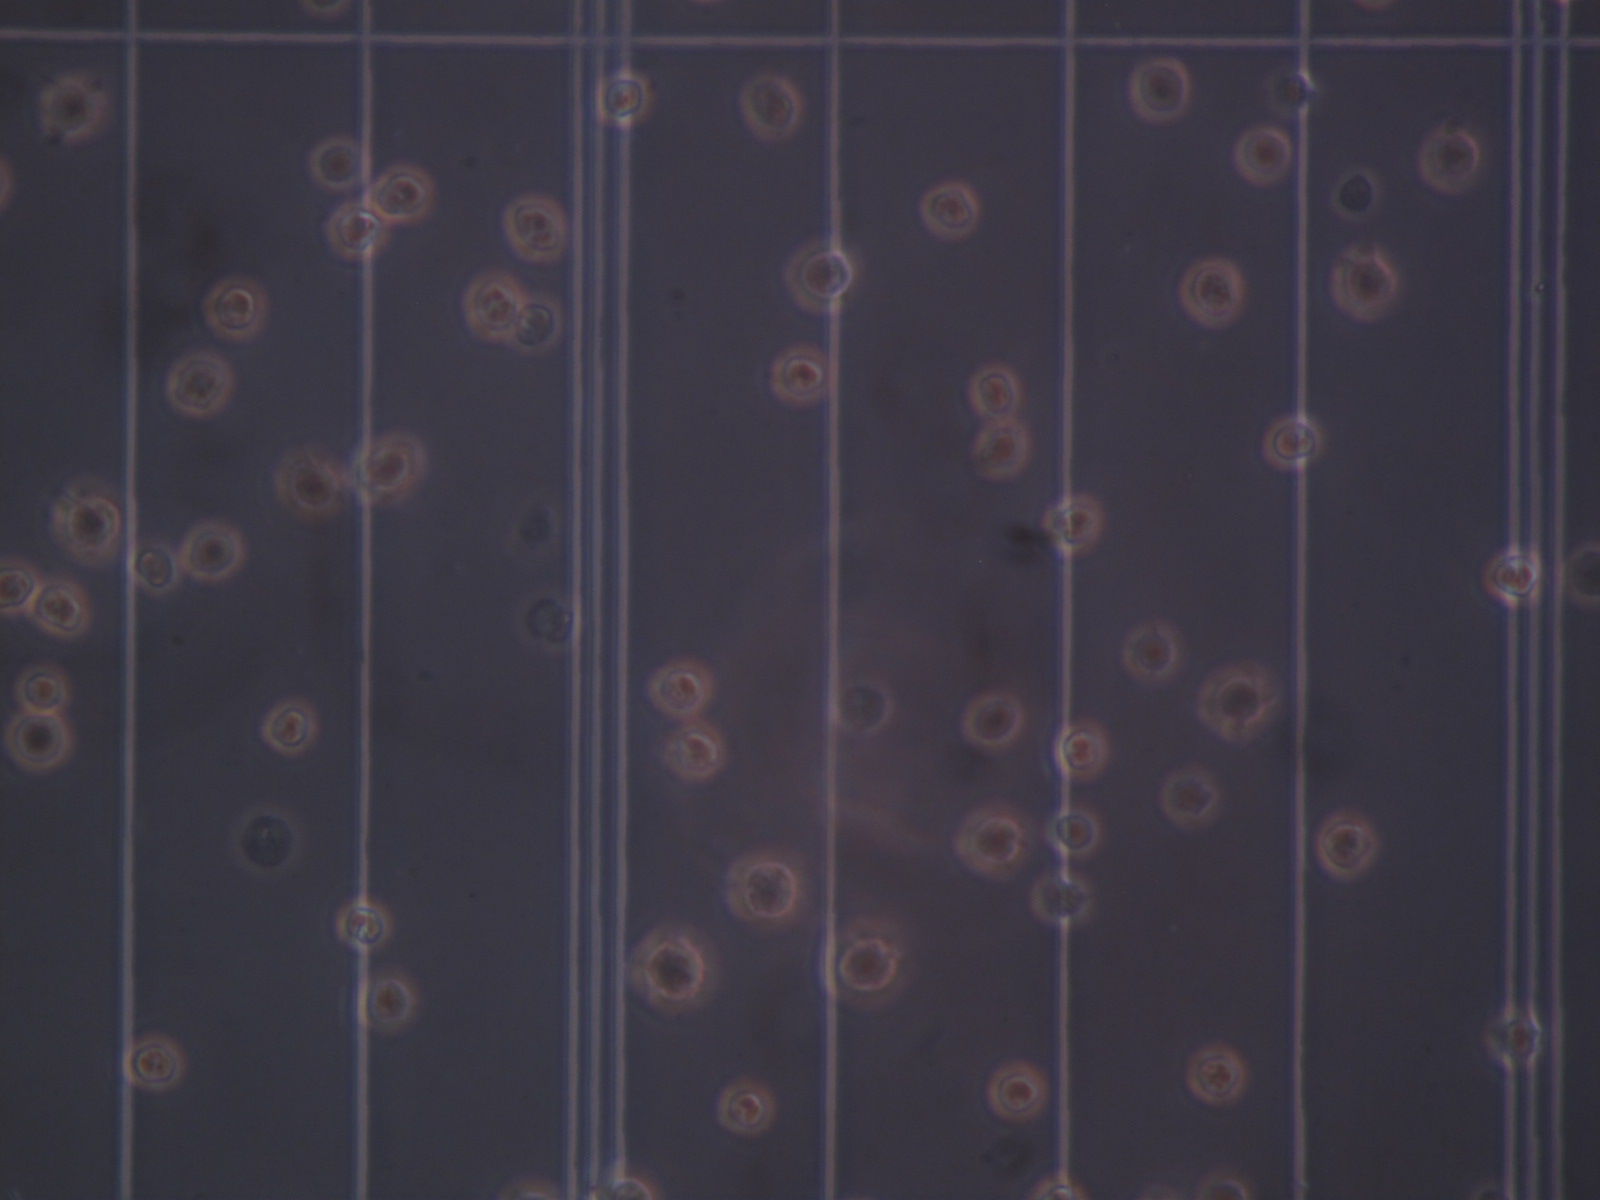hemo: (627, 918, 723, 1017), (819, 915, 912, 1011), (724, 843, 808, 934), (1198, 662, 1274, 744), (273, 447, 343, 527), (351, 434, 427, 505), (954, 805, 1023, 882), (50, 487, 121, 561), (1330, 245, 1396, 324), (784, 239, 854, 313), (166, 350, 236, 421), (232, 808, 301, 876), (1314, 809, 1378, 882), (1180, 257, 1243, 329), (769, 342, 835, 408), (37, 77, 103, 144), (462, 272, 527, 342), (513, 587, 582, 652), (1419, 124, 1480, 195), (203, 276, 268, 343), (503, 195, 566, 263), (984, 1059, 1048, 1124), (648, 654, 714, 717), (367, 164, 435, 224), (357, 964, 416, 1034), (1120, 621, 1183, 686), (1128, 58, 1189, 124), (660, 722, 728, 782), (1186, 1042, 1249, 1105), (1041, 493, 1105, 555), (178, 524, 244, 584), (741, 76, 801, 139), (829, 676, 894, 734), (968, 420, 1028, 482), (1159, 769, 1222, 828), (323, 203, 389, 258), (30, 581, 91, 642), (1052, 718, 1110, 782), (966, 693, 1026, 753), (920, 182, 980, 239), (123, 1034, 184, 1092), (262, 696, 319, 758), (4, 716, 68, 770), (1482, 547, 1541, 605), (1235, 127, 1293, 187), (1262, 418, 1327, 471), (717, 1079, 777, 1134), (1484, 1012, 1541, 1070), (968, 362, 1023, 421), (1042, 807, 1102, 861), (1031, 875, 1094, 925), (593, 69, 649, 126), (509, 299, 563, 355), (310, 137, 365, 192), (125, 543, 179, 595), (336, 901, 394, 949), (14, 666, 69, 713), (1, 557, 42, 616), (590, 1171, 658, 1200), (1027, 1172, 1087, 1200), (1198, 1170, 1254, 1200)
